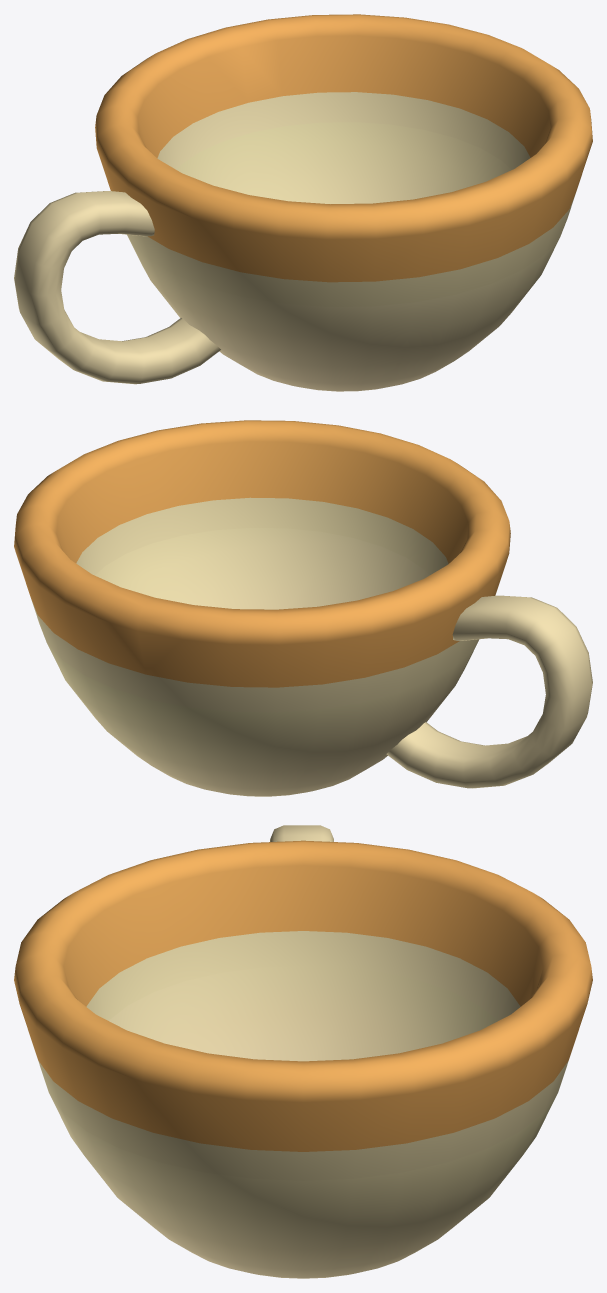
Rendered from Cup.fbx.
3 renders of one model, top to bottom at view 1: azimuth 30°, elevation 25°; view 2: azimuth 150°, elevation 25°; view 3: azimuth 270°, elevation 25°, orthographic. The views are drawn at different scales.
Parts seen in each view (by area): view 1: Cylinder.005, Circle.007; view 2: Cylinder.005, Circle.007; view 3: Cylinder.005, Circle.007.
Boxes of the visible parts, bbox=[...] form: Cylinder.005: bbox=[95, 14, 592, 391]; Circle.007: bbox=[14, 191, 220, 384]; Cylinder.005: bbox=[14, 420, 510, 796]; Circle.007: bbox=[386, 595, 592, 788]; Cylinder.005: bbox=[14, 840, 592, 1278]; Circle.007: bbox=[270, 825, 333, 841].
Size of the model in its own units: 2.68 by 1.14 by 2.16.
